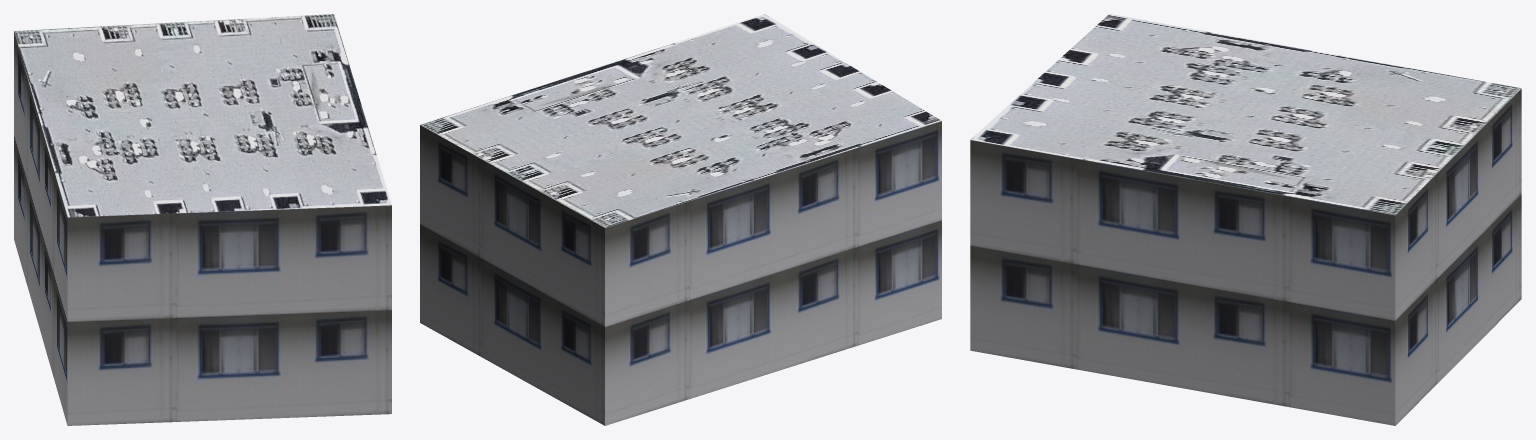
File: ResTex__410.fbx
3 views of the same model, side by side, from view 1: azimuth 30°, elevation 25°; view 2: azimuth 150°, elevation 25°; view 3: azimuth 270°, elevation 25° (orthographic). The views are drawn at different scales.
Visible parts, largest first — view 1: CityEngineMaterial_9_m, CityEngineMaterial_8_m; view 2: CityEngineMaterial_9_m, CityEngineMaterial_8_m; view 3: CityEngineMaterial_9_m, CityEngineMaterial_8_m.
Part boxes in pixels (box(x1,y1,x2,y2)): CityEngineMaterial_9_m: box(14, 31, 391, 425); CityEngineMaterial_8_m: box(14, 14, 391, 217); CityEngineMaterial_9_m: box(420, 121, 941, 425); CityEngineMaterial_8_m: box(420, 14, 941, 227); CityEngineMaterial_9_m: box(970, 89, 1521, 425); CityEngineMaterial_8_m: box(970, 14, 1521, 215).
Bounding box in the file's own units: 12.29 × 6 × 14.23.
Materials: 2 (2 with a texture image).
